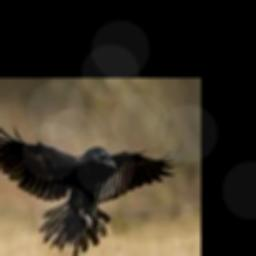Crow: (0, 117, 185, 255)
